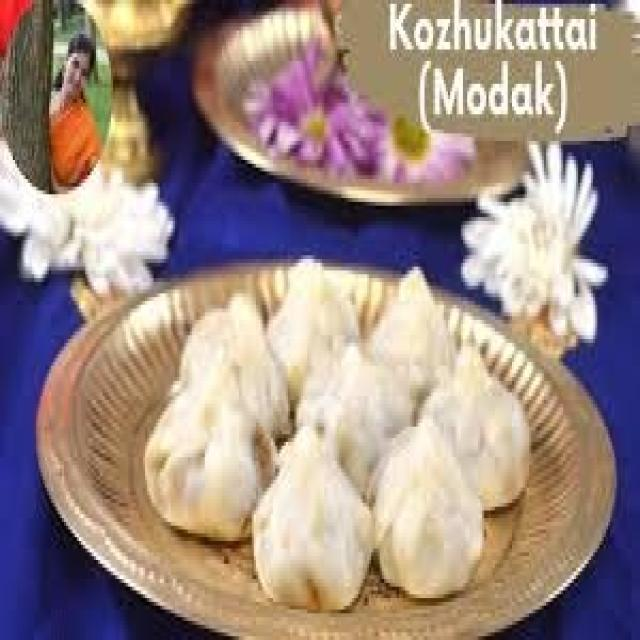poorna kolukattai: (155, 237, 535, 623)
